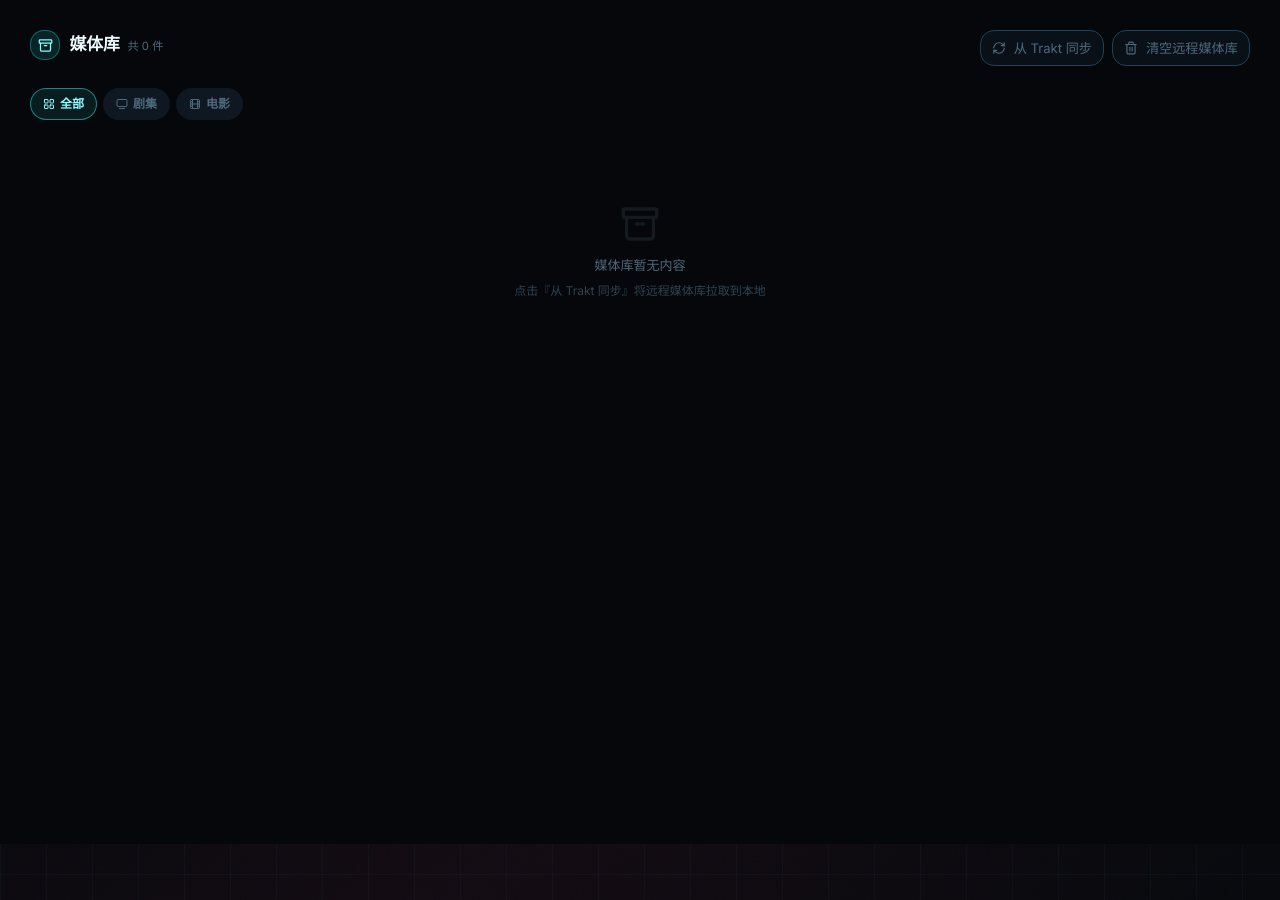
Test: CollectionPage › clear remote flow › opens and cancels the clear confirmation
Click the button titled "清空远程媒体库" at (1181, 48), box [1112,30,1250,66]
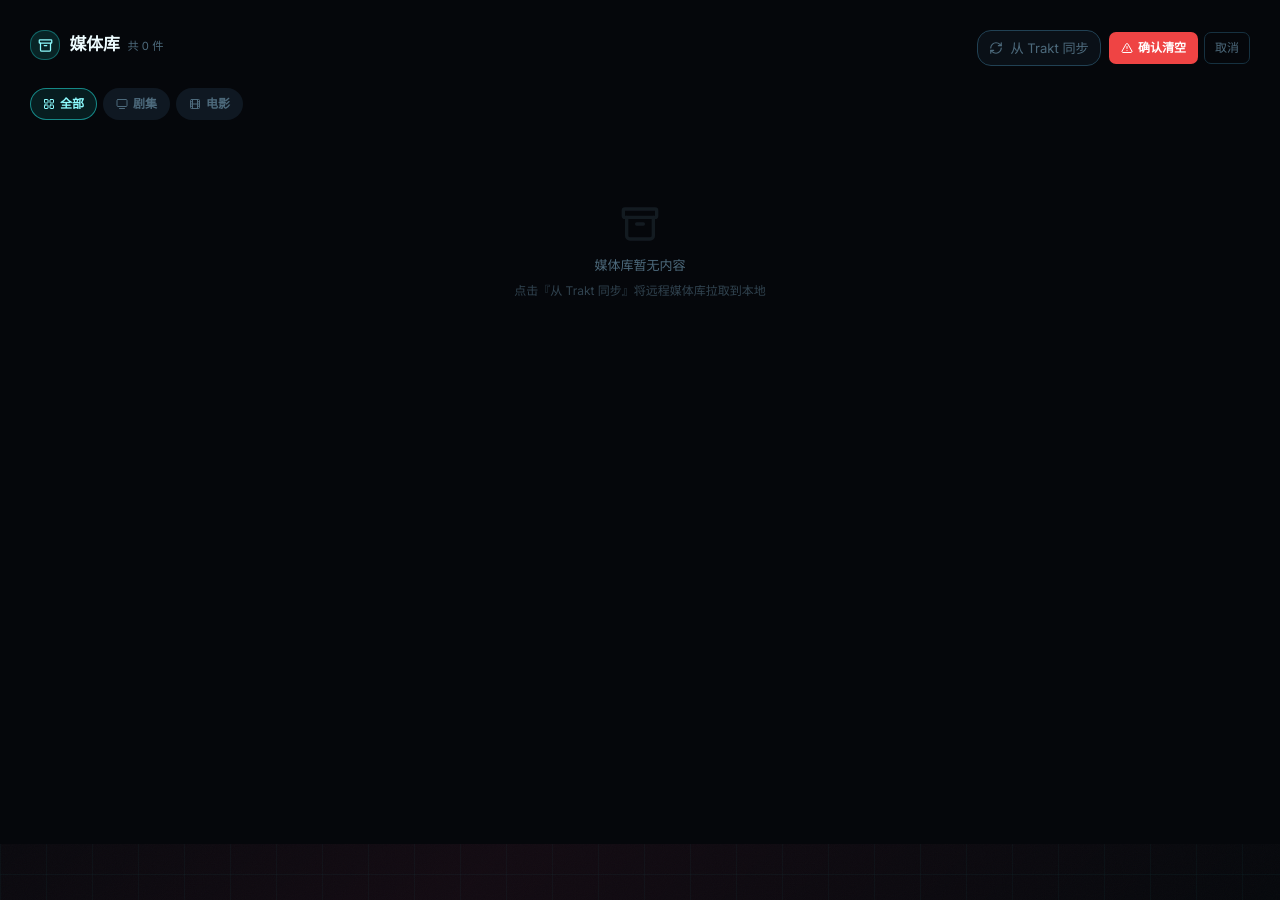
expect the button "确认清空" is shown: met, box [1109,32,1198,64]
Click the button "取消" at (1227, 48), box [1204,32,1250,64]
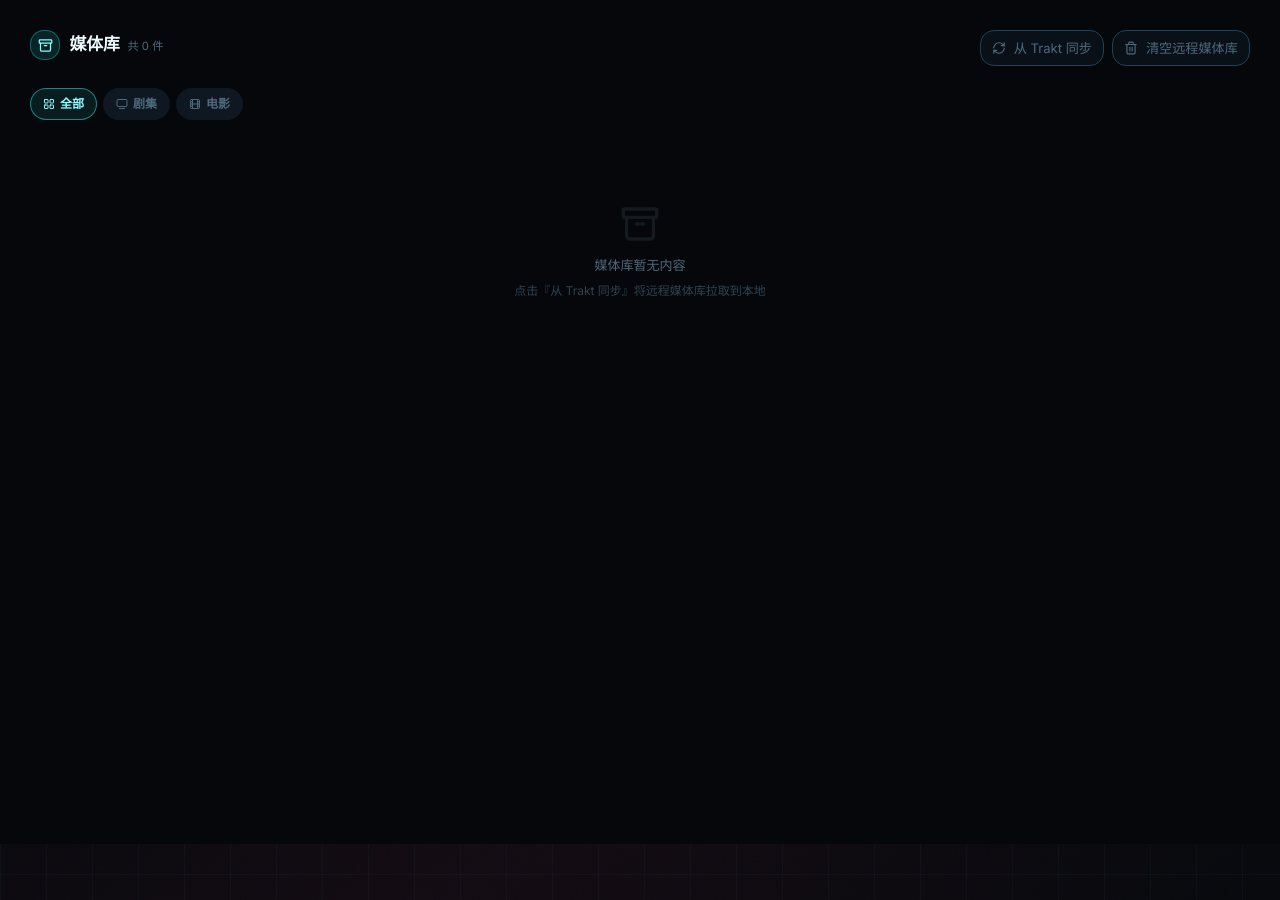
expect the button "确认清空" is gone: met
